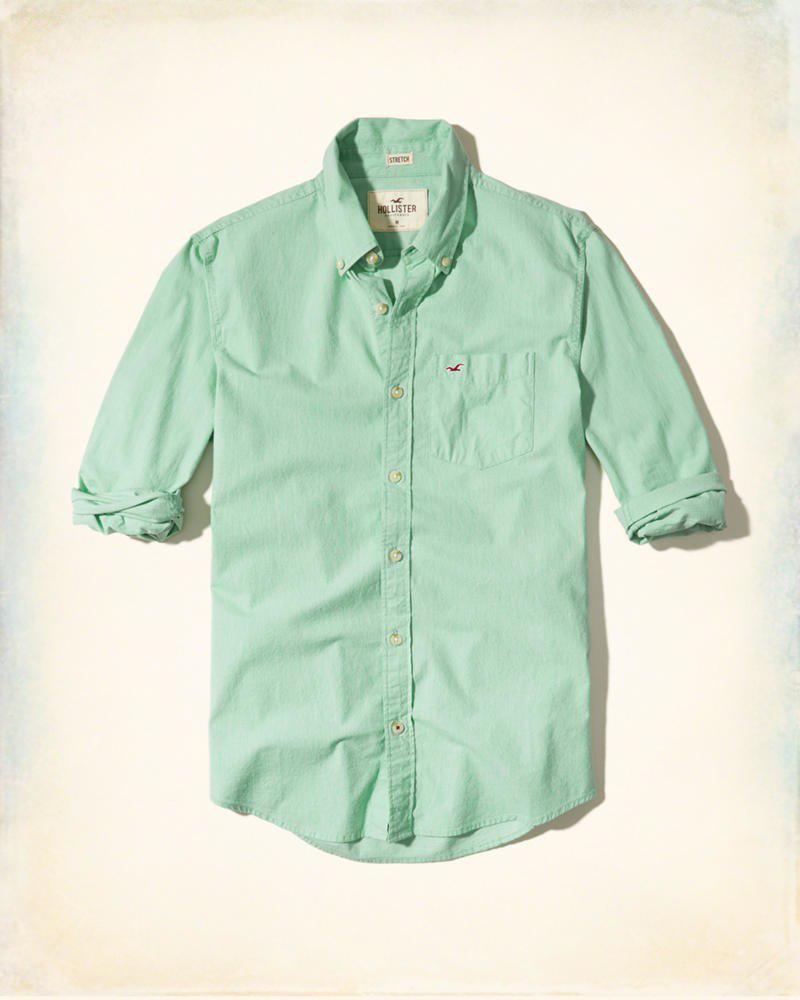teeshirt: (85, 115, 730, 884)
